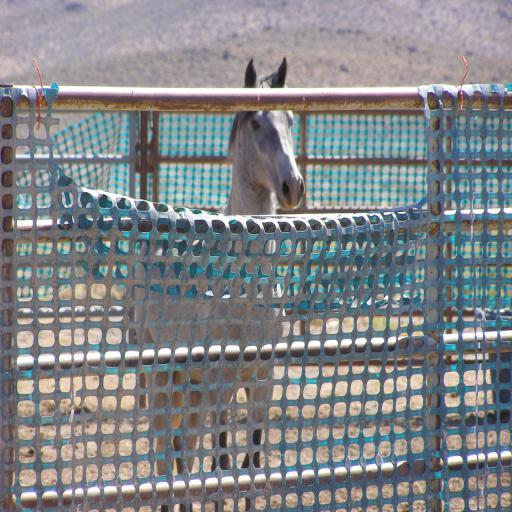horse: (136, 54, 307, 512)
